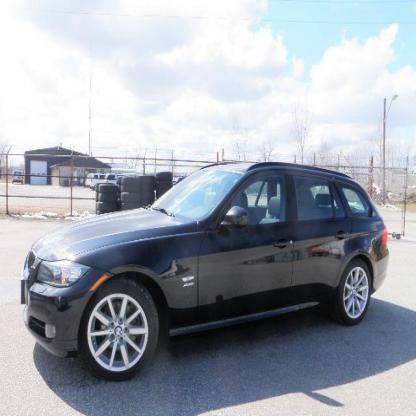Vehicle: (15, 139, 402, 397)
